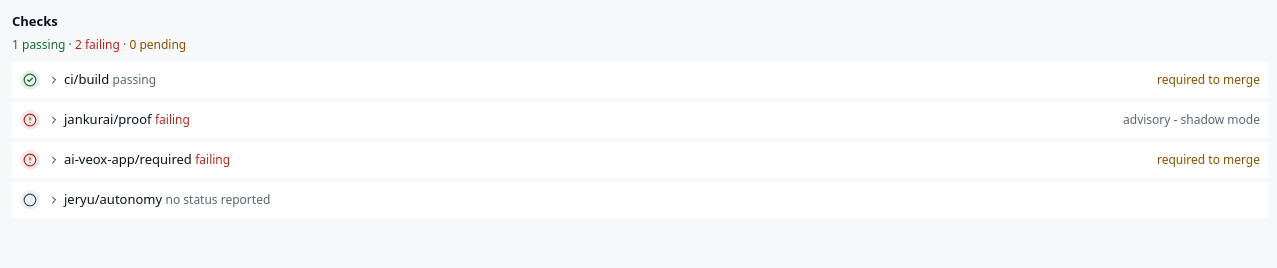
Test: ChecksPanel › expands a commit status to its description and gate run log
Click the button "ai-veox-app/required failing" at (128, 159), box [48,150,1149,169]
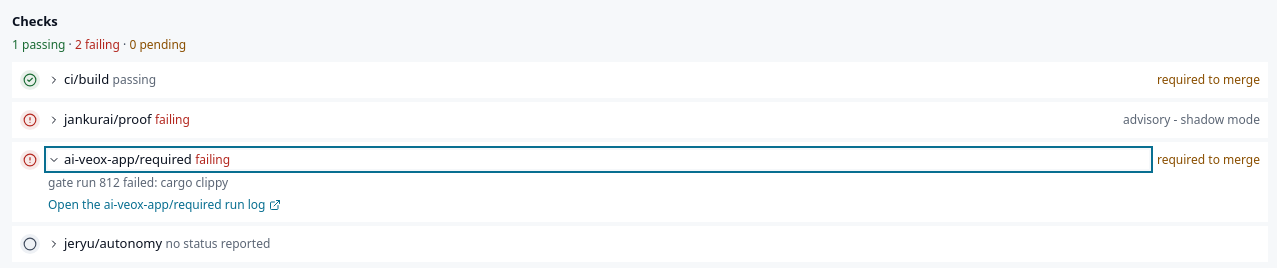
Expected: the text "gate run 812 failed: cargo clippy" is shown, [48,174,228,190]
